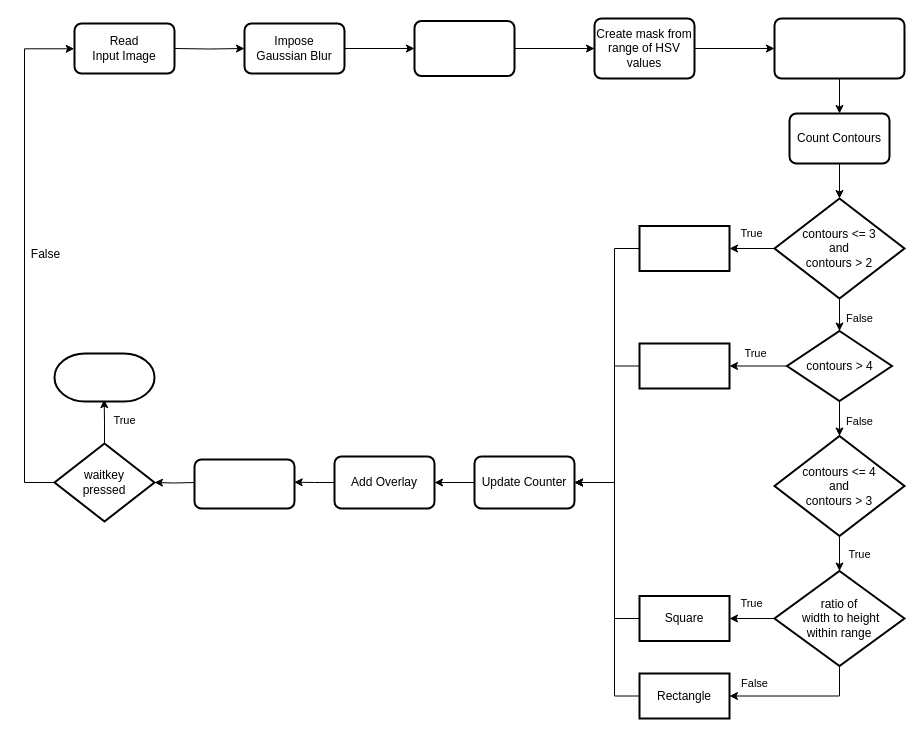
This 923x736 diagram has some shape labels left out. Here are the shapes that lost their labels. From the top down, the centre of each, then its label:
At point 464,48: "Convert BGR to HSV".
At point 839,48: "Morphological Transformations (Dilate, Open, Close)".
At point 684,248: "Triangle".
At point 104,377: "Break".
At point 684,365: "Circle".
At point 244,483: "Show Output Image".
